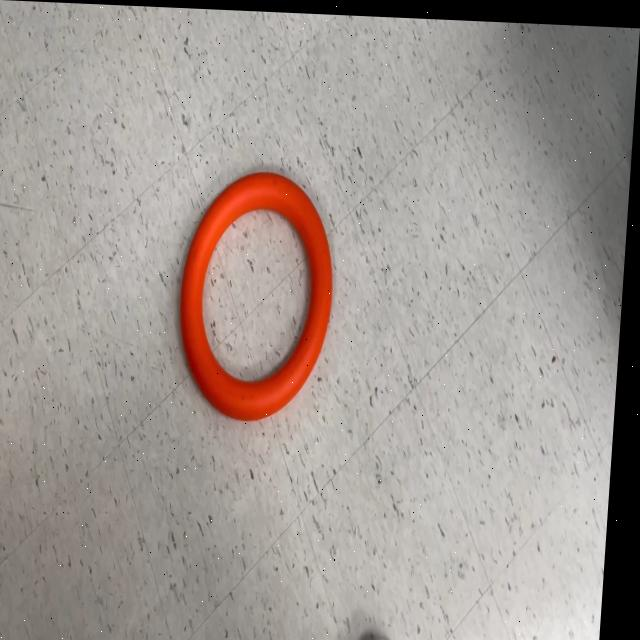note: (178, 166, 345, 422)
